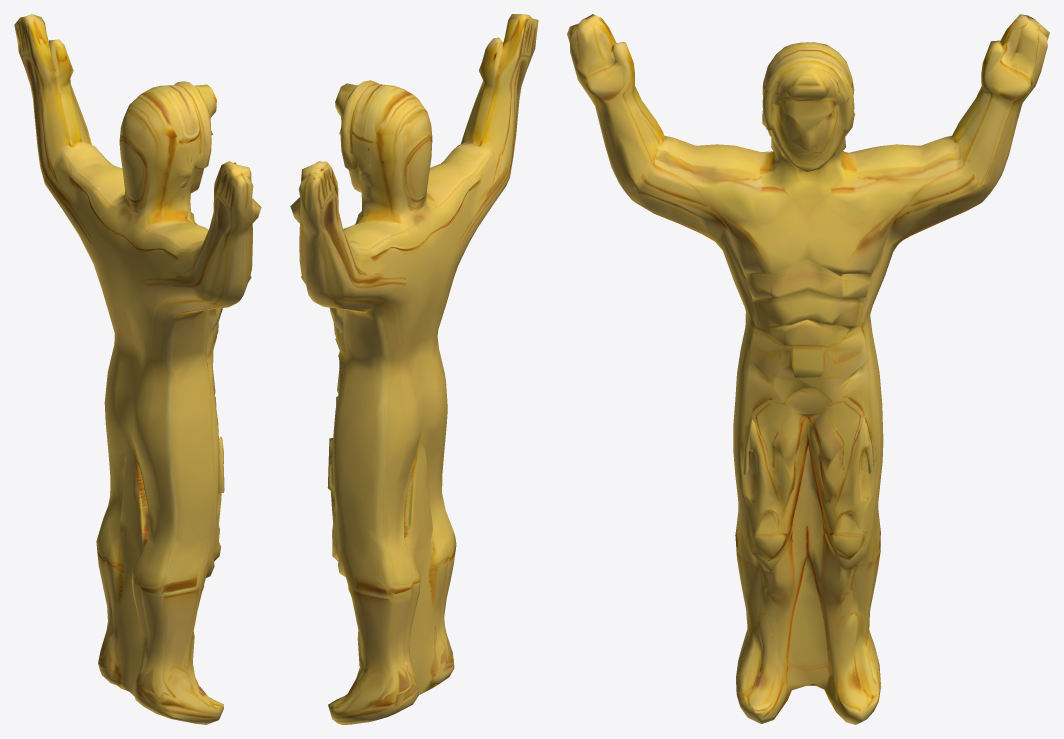
File: golden+humanoid+3d+model.obj
3 views of the same model, side by side, from view 1: azimuth 30°, elevation 25°; view 2: azimuth 150°, elevation 25°; view 3: azimuth 270°, elevation 25° (orthographic). The views are drawn at different scales.
Visible parts, largest first — view 1: tripo_node_c928c499-2b05-4409-b28c-2faafdd8bb02; view 2: tripo_node_c928c499-2b05-4409-b28c-2faafdd8bb02; view 3: tripo_node_c928c499-2b05-4409-b28c-2faafdd8bb02.
Part boxes in pixels (x1,y1,x2,y2): tripo_node_c928c499-2b05-4409-b28c-2faafdd8bb02: [14, 14, 261, 724]; tripo_node_c928c499-2b05-4409-b28c-2faafdd8bb02: [290, 14, 538, 724]; tripo_node_c928c499-2b05-4409-b28c-2faafdd8bb02: [567, 14, 1049, 724].
Bounding box in the file's own units: 0.1522 × 1 × 0.6459.
Materials: 1 (1 with a texture image).
